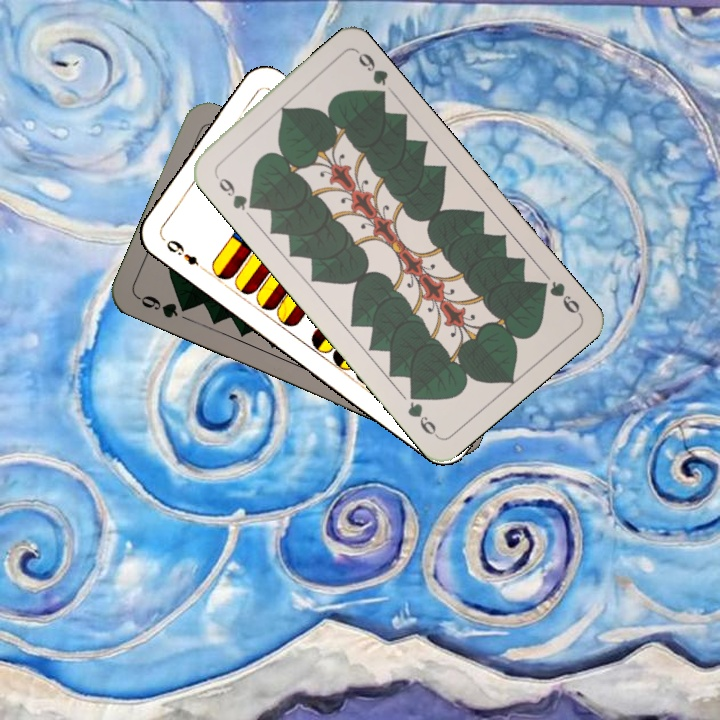E9: (162, 235, 208, 274)
G9: (210, 168, 258, 213), (532, 277, 584, 318), (133, 291, 194, 321)
